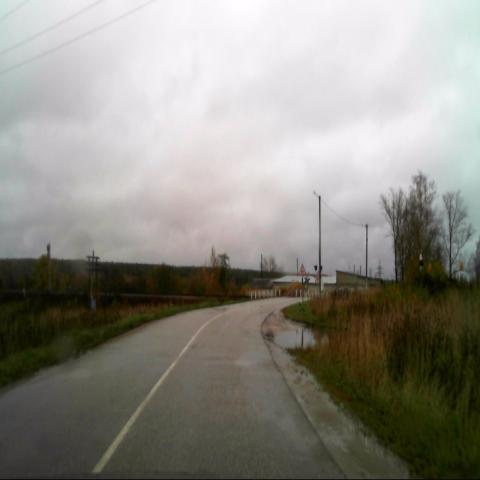1_2: (298, 263, 306, 277)
